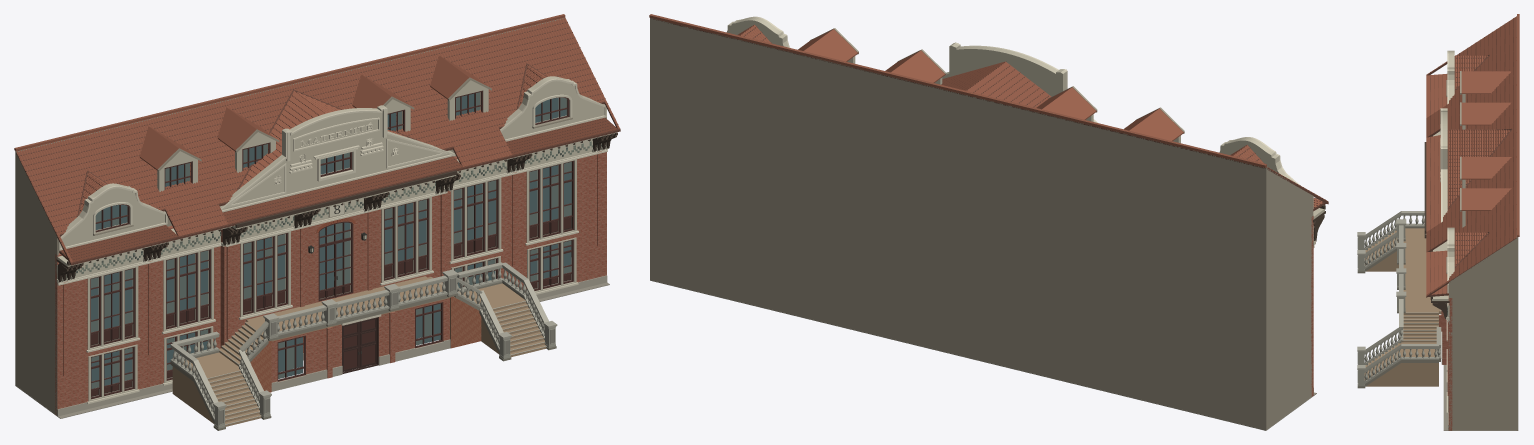
The model's file is huangpu-guangci-maternity-pavilion-twin-stair-web.glb.
3 views of the same model, side by side, from view 1: azimuth 30°, elevation 25°; view 2: azimuth 150°, elevation 25°; view 3: azimuth 270°, elevation 25° (orthographic). The views are drawn at different scales.
Visible parts, largest first — view 1: 广慈医院原产科楼庭院立面与双梯门廊; view 2: 广慈医院原产科楼庭院立面与双梯门廊; view 3: 广慈医院原产科楼庭院立面与双梯门廊.
Boxes of the visible parts, left/top/right/bottom form: 广慈医院原产科楼庭院立面与双梯门廊: left=14, top=14, right=620, bottom=430; 广慈医院原产科楼庭院立面与双梯门廊: left=649, top=14, right=1328, bottom=430; 广慈医院原产科楼庭院立面与双梯门廊: left=1357, top=14, right=1519, bottom=430.
Size of the model in its own units: 40.45 by 16.74 by 12.52.
24 materials, 1 textured.
